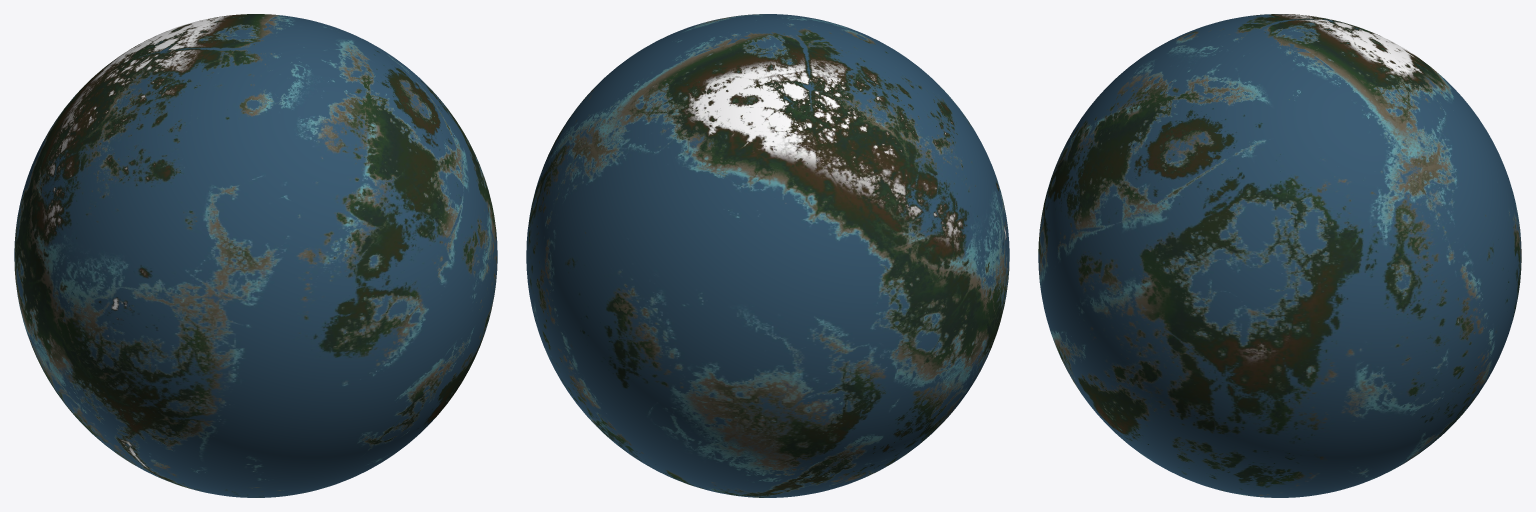
The model's file is earth-planet.glb.
3 views of the same model, side by side, from view 1: azimuth 30°, elevation 25°; view 2: azimuth 150°, elevation 25°; view 3: azimuth 270°, elevation 25° (orthographic).
Visible parts, largest first — view 1: export_planet; view 2: export_planet; view 3: export_planet.
Boxes of the visible parts, x1,y1,x2,y2 form: export_planet: [14, 14, 497, 497]; export_planet: [526, 14, 1009, 497]; export_planet: [1038, 14, 1521, 497].
Size of the model in its own units: 68.51 by 68.71 by 68.51.
Materials: 1 (1 with a texture image).
